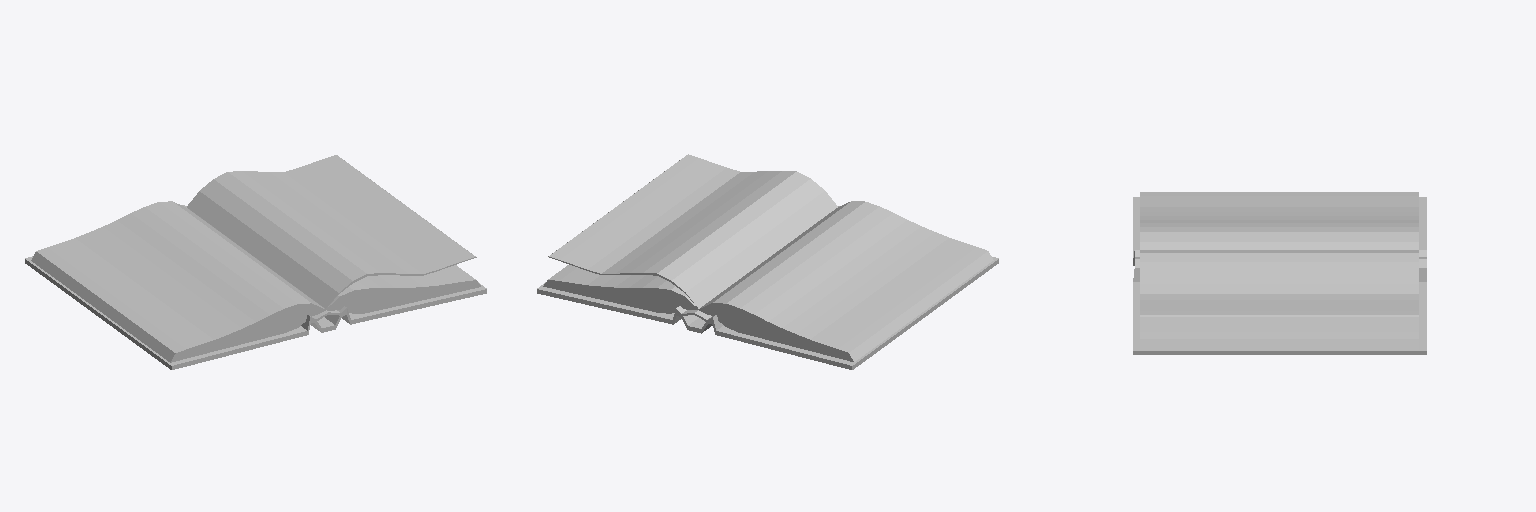
The model's file is book.obj.
3 views of the same model, side by side, from view 1: azimuth 30°, elevation 25°; view 2: azimuth 150°, elevation 25°; view 3: azimuth 270°, elevation 25° (orthographic).
Parts seen in each view (by area): view 1: quran1; view 2: quran1; view 3: quran1.
Boxes of the visible parts, x1,y1,x2,y2 form: quran1: [25, 155, 486, 369]; quran1: [537, 154, 998, 369]; quran1: [1133, 192, 1426, 354].
Bounding box in the file's own units: 21.15 × 2.99 × 17.05.